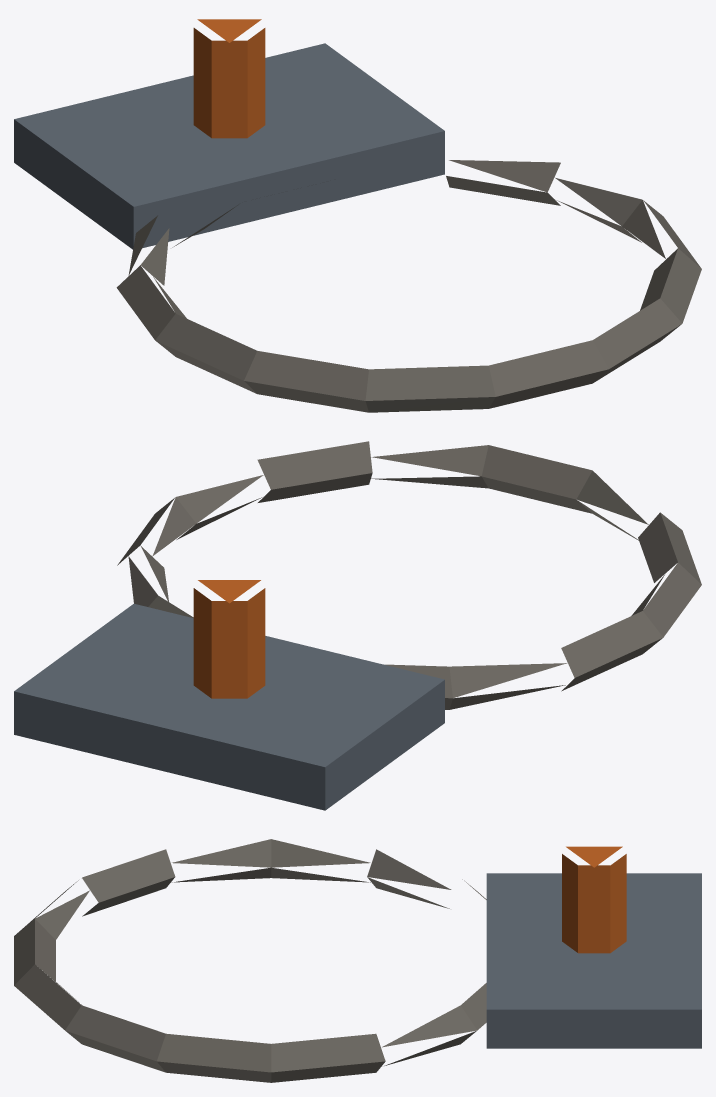
File: snare.lod.glb
3 renders of one model, top to bottom at view 1: azimuth 30°, elevation 25°; view 2: azimuth 150°, elevation 25°; view 3: azimuth 270°, elevation 25°, orthographic. The views are drawn at different scales.
Parts seen in each view (by area): view 1: m; view 2: m; view 3: m.
Part boxes in pixels (bbox=[...]): m: bbox=[14, 19, 701, 412]; m: bbox=[14, 441, 701, 810]; m: bbox=[14, 839, 701, 1082].
Bounding box in the file's own units: 0.0878 × 0.0233 × 0.1145.
